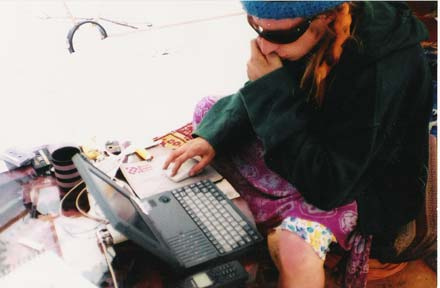person: (166, 1, 434, 288)
